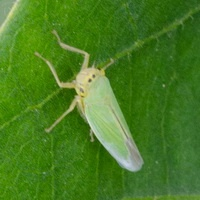insect: (35, 30, 142, 170)
